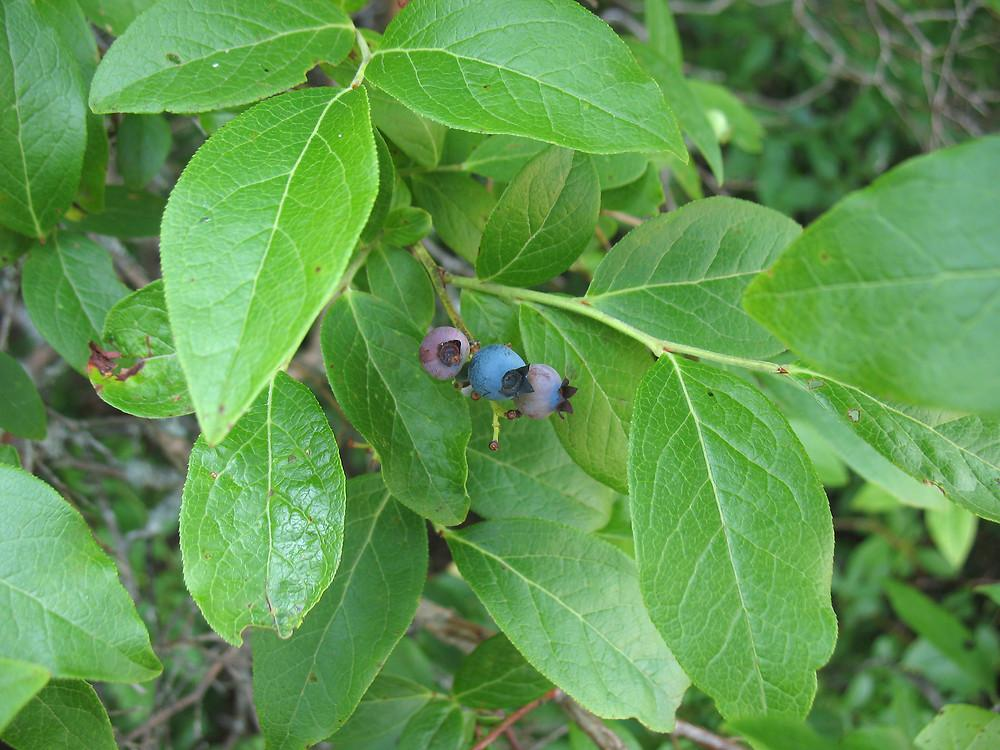Blueberry leaf: (607, 332, 865, 750), (145, 83, 384, 443), (740, 121, 1000, 434), (419, 505, 692, 750), (148, 338, 347, 673), (371, 4, 733, 183), (293, 282, 486, 549), (567, 197, 864, 369), (462, 140, 612, 318)
